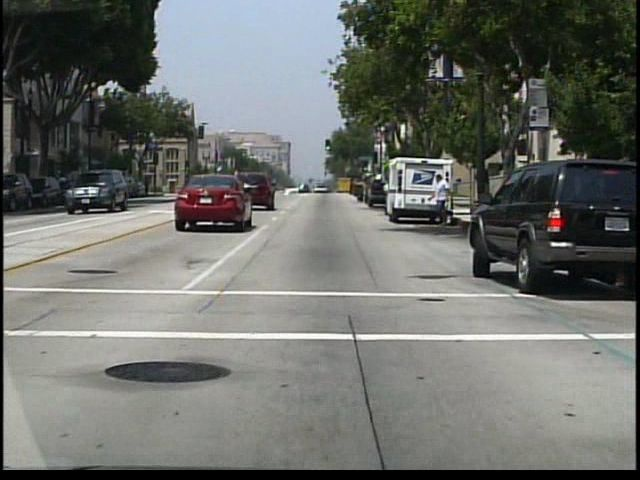person: (426, 173, 453, 230), (354, 174, 371, 207)
